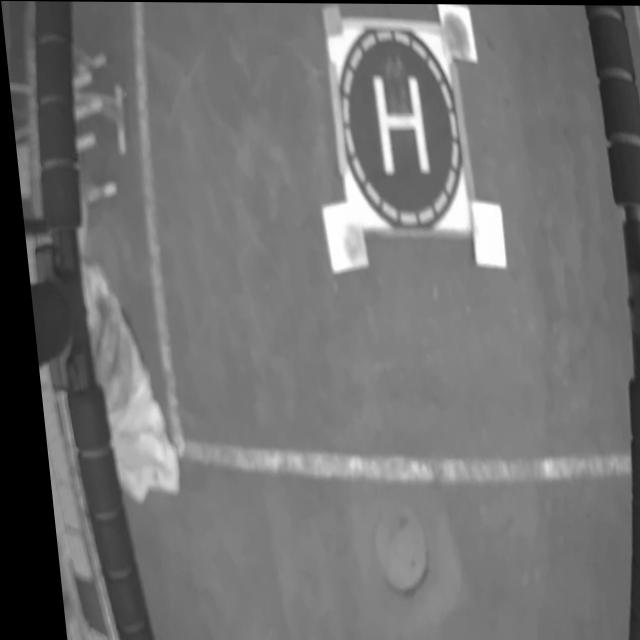Helipad: (370, 73, 425, 172)
